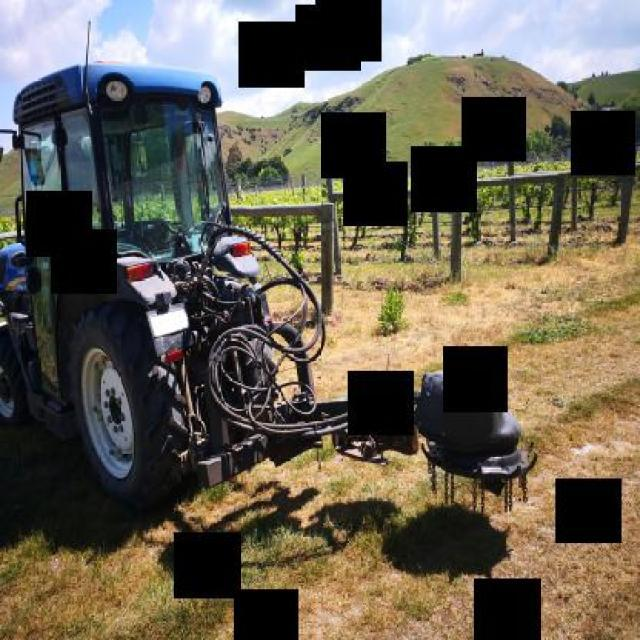Tratores - v5 YOLO V8L 2024-11-13: (3, 3, 332, 640)
